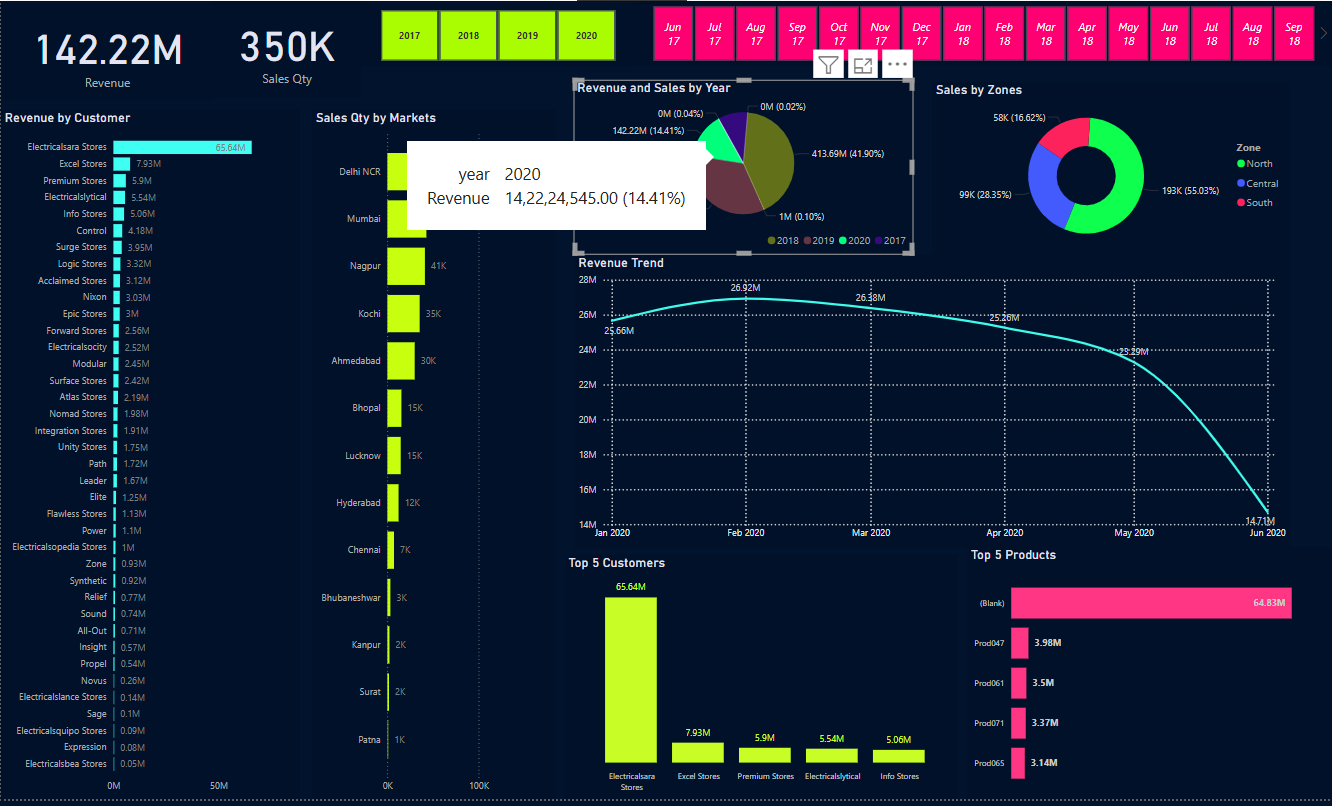

What the dashboard file says about the page in this screenshot:
{"tool":"powerbi","page":{"name":"Dashboard","canvas":[1750,1050],"ordinal":0},"visuals":[{"type":"card","fields":{"Values":["BaseMeasures.Revenue"]},"box":[1.6,4.8,277.5,125.8],"z":0},{"type":"card","fields":{"Values":["BaseMeasures.Sales Qty"]},"box":[279.1,0,193.6,127.5],"z":1000},{"type":"barChart","title":"Revenue by Customer","fields":{"Category":["sales customers.custmer_name"],"Y":["BaseMeasures.Revenue"]},"box":[0,143,392.8,907.3],"z":2000},{"type":"barChart","title":"Sales Qty by Markets","fields":{"Category":["sales markets.markets_name"],"Y":["BaseMeasures.Sales Qty"]},"box":[409.3,143,320.5,907.3],"z":3000},{"type":"donutChart","title":"Sales by Zones","fields":{"Y":["BaseMeasures.Sales Qty"],"Category":["sales markets.zone"]},"box":[1224.6,106.8,470.1,226.8],"z":4000},{"type":"slicer","fields":{"Values":["sales date.year"]},"box":[473.4,4.9,358.3,80.5],"z":5000},{"type":"slicer","title":"Months","fields":{"Values":["sales date.cy_date"]},"box":[831.7,0,918.8,85.5],"z":6000},{"type":"columnChart","title":"Top 5 Customers","fields":{"Category":["sales customers.custmer_name"],"Y":["BaseMeasures.Revenue"]},"box":[741.3,728.2,516.1,320.5],"z":7000},{"type":"pieChart","title":"Revenue and Sales by Year","fields":{"Category":["sales date.year"],"Y":["BaseMeasures.Revenue","BaseMeasures.Sales Qty"]},"box":[752.8,103.6,447.1,230.1],"z":8000},{"type":"barChart","title":"Top 5 Products","fields":{"Y":["BaseMeasures.Revenue"],"Category":["sales products.product_code"]},"box":[1270.6,718.3,480,332],"z":9000},{"type":"lineChart","title":"Revenue Trend","fields":{"Category":["sales date.cy_date"],"Y":["BaseMeasures.Revenue"]},"box":[754.5,333.7,940.2,384.6],"z":10000}]}

Visuals, with their boxes in screenshot pixels (x1, y1, x2, y2), scaled from the page's 1750x1050 canvas onto the 1332x806 screenshot:
card - BaseMeasures.Revenue: <region>1, 4, 212, 100</region>
card - BaseMeasures.Sales Qty: <region>212, 0, 360, 98</region>
"Revenue by Customer" barChart: <region>0, 110, 299, 805</region>
"Sales Qty by Markets" barChart: <region>312, 110, 555, 805</region>
"Sales by Zones" donutChart: <region>932, 82, 1290, 256</region>
slicer - sales date.year: <region>360, 4, 633, 66</region>
"Months" slicer: <region>633, 0, 1331, 66</region>
"Top 5 Customers" columnChart: <region>564, 559, 957, 805</region>
"Revenue and Sales by Year" pieChart: <region>573, 80, 913, 256</region>
"Top 5 Products" barChart: <region>967, 551, 1331, 805</region>
"Revenue Trend" lineChart: <region>574, 256, 1290, 551</region>
